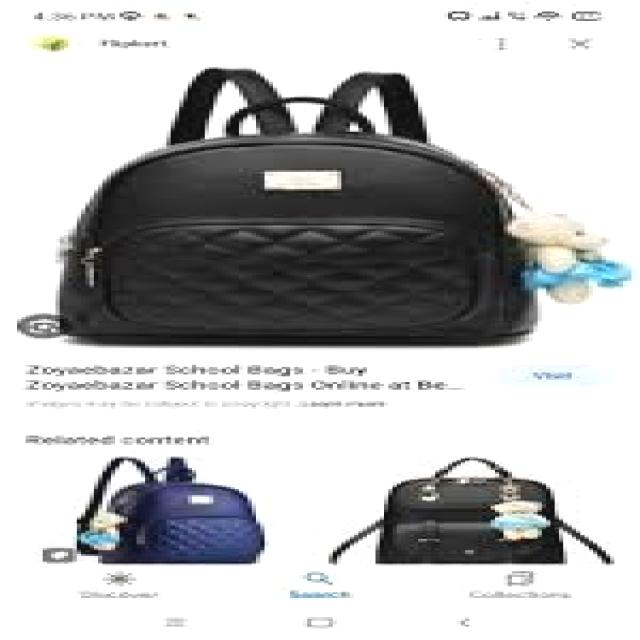backpack: (18, 68, 543, 345)
